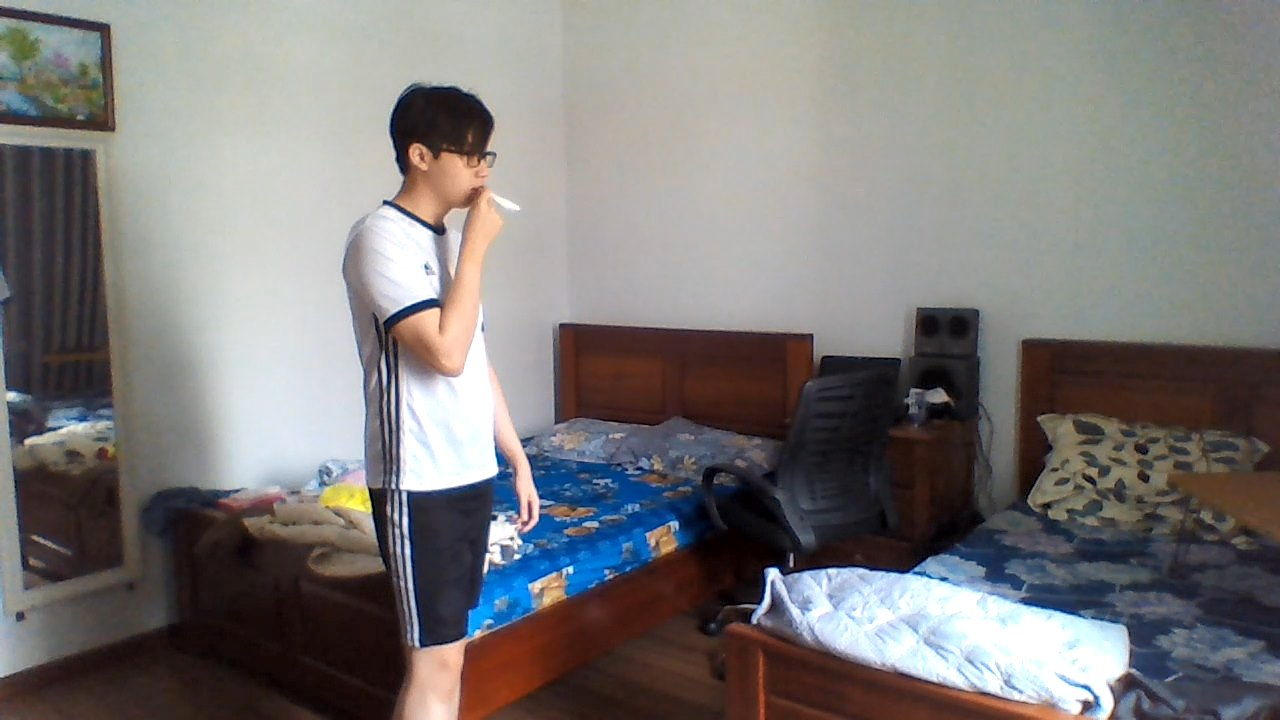cigarette: (487, 191, 525, 216)
person: (319, 75, 536, 720)
